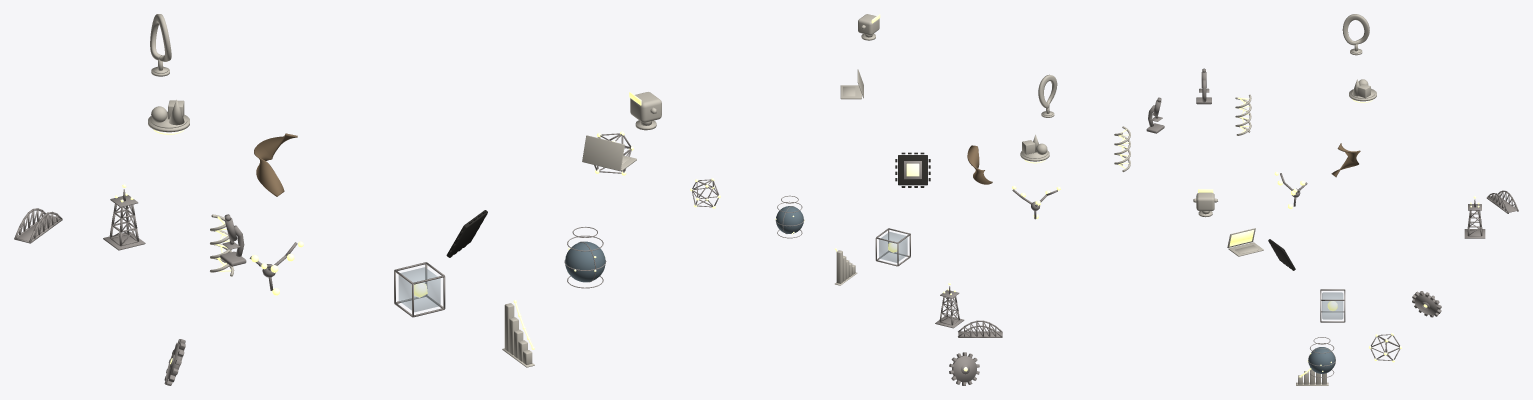
Rendered from knowledge_artifacts.glb.
The picture shows the model from 3 angles, left to right: view 1: azimuth 30°, elevation 25°; view 2: azimuth 150°, elevation 25°; view 3: azimuth 270°, elevation 25°; orthographic projection. The views are drawn at different scales.
Visible parts, largest first — view 1: tech_data_cube_shell, business_globe, engineering_structure, design_ribbon, tech_laptop_lid, business_chart, design_geometry, engineering_bridge, tech_robot, design_form, tech_data_cube, science_microscope (+1 smaller); view 2: tech_microchip, engineering_gear, tech_data_cube_shell, business_globe, engineering_structure, engineering_bridge, design_geometry, business_chart, design_form, tech_robot, tech_data_cube, design_ribbon (+1 smaller); view 3: business_globe, tech_data_cube_shell, engineering_gear, design_form, engineering_structure, tech_robot, design_geometry, engineering_bridge, business_chart, business_network, design_ribbon, tech_laptop (+4 smaller).
Part boxes in pixels (x1=…): tech_data_cube_shell: x1=398, y1=267, x2=440, y2=312; business_globe: x1=565, y1=241, x2=605, y2=282; engineering_structure: x1=103, y1=189, x2=145, y2=250; design_ribbon: x1=254, y1=133, x2=297, y2=196; tech_laptop_lid: x1=582, y1=135, x2=624, y2=171; business_chart: x1=502, y1=303, x2=534, y2=367; design_geometry: x1=148, y1=99, x2=189, y2=132; engineering_bridge: x1=14, y1=208, x2=62, y2=243; tech_robot: x1=630, y1=92, x2=661, y2=130; design_form: x1=150, y1=14, x2=171, y2=76; tech_data_cube: x1=394, y1=262, x2=445, y2=317; science_microscope: x1=220, y1=214, x2=246, y2=266; tech_microchip: x1=895, y1=152, x2=930, y2=187; engineering_gear: x1=949, y1=352, x2=979, y2=385; tech_data_cube_shell: x1=879, y1=232, x2=907, y2=262; business_globe: x1=776, y1=206, x2=803, y2=233; engineering_structure: x1=935, y1=286, x2=964, y2=328; engineering_bridge: x1=958, y1=320, x2=1002, y2=337; design_geometry: x1=1020, y1=134, x2=1049, y2=161; business_chart: x1=835, y1=250, x2=857, y2=285; design_form: x1=1038, y1=74, x2=1057, y2=117; tech_robot: x1=858, y1=14, x2=879, y2=40; tech_data_cube: x1=875, y1=228, x2=910, y2=266; design_ribbon: x1=967, y1=145, x2=992, y2=184; business_globe: x1=1308, y1=347, x2=1335, y2=373; tech_data_cube_shell: x1=1322, y1=292, x2=1343, y2=319; engineering_gear: x1=1412, y1=291, x2=1441, y2=317; design_form: x1=1342, y1=14, x2=1369, y2=55; engineering_structure: x1=1464, y1=199, x2=1485, y2=238; tech_robot: x1=1193, y1=192, x2=1217, y2=217; design_geometry: x1=1349, y1=79, x2=1376, y2=101; engineering_bridge: x1=1486, y1=190, x2=1518, y2=213; business_chart: x1=1296, y1=367, x2=1328, y2=385; business_network: x1=1370, y1=334, x2=1400, y2=360; design_ribbon: x1=1331, y1=143, x2=1360, y2=177; tech_laptop: x1=1228, y1=242, x2=1263, y2=256.
Bounding box in the file's own units: 14.83 × 11.02 × 11.54.
